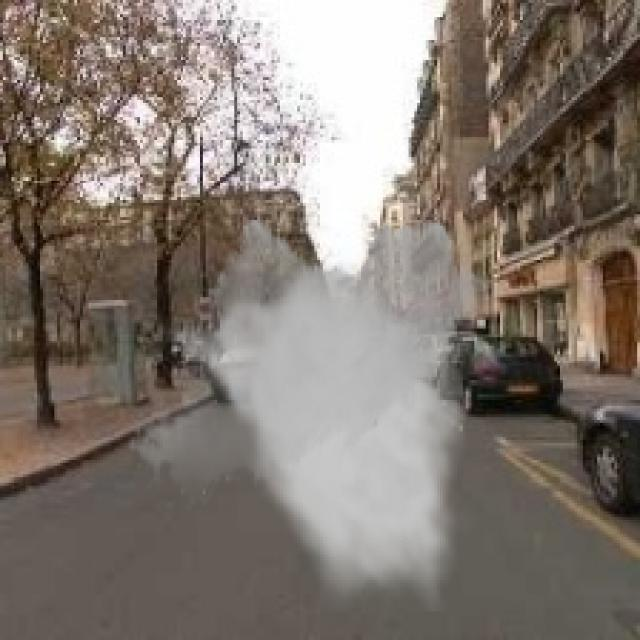smoke: (126, 208, 500, 612)
